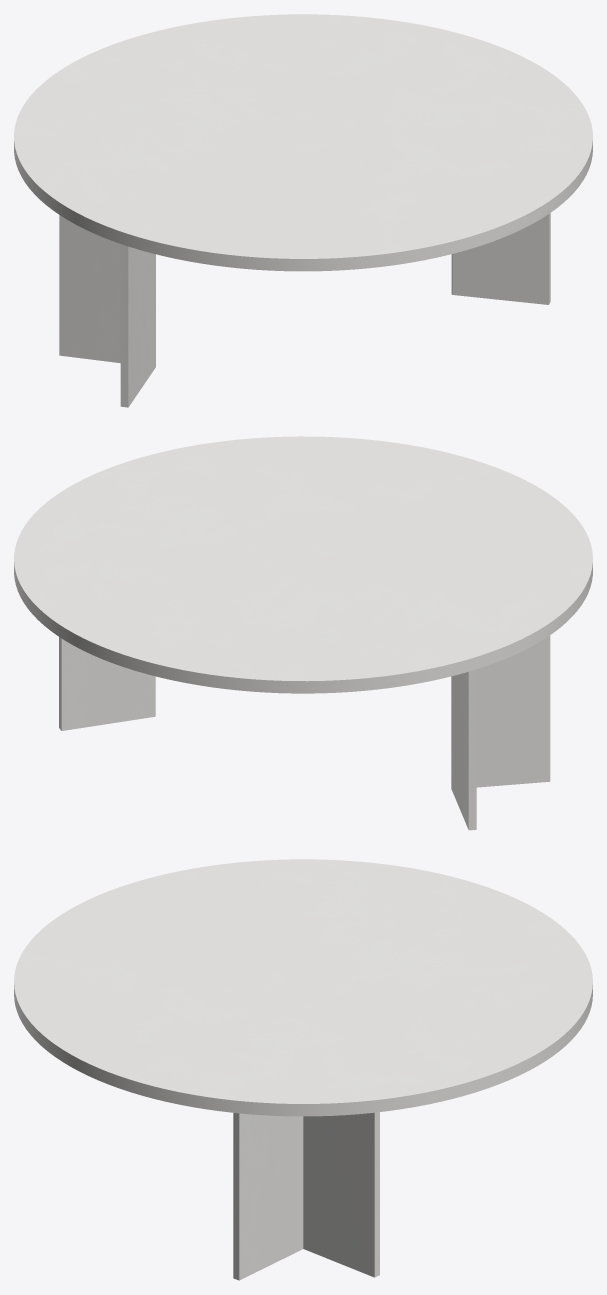
The model's file is purewhite_round_standard_valleyv.glb.
3 renders of one model, top to bottom at view 1: azimuth 30°, elevation 25°; view 2: azimuth 150°, elevation 25°; view 3: azimuth 270°, elevation 25°, orthographic.
Parts seen in each view (by area): view 1: standard_round, valleyv; view 2: standard_round, valleyv; view 3: standard_round, valleyv.
Part boxes in pixels (<box>): standard_round: <box>14,14,592,271</box>; valleyv: <box>59,213,550,407</box>; standard_round: <box>14,436,592,693</box>; valleyv: <box>59,635,550,830</box>; standard_round: <box>14,859,592,1116</box>; valleyv: <box>233,1112,379,1280</box>.
Bounding box in the file's own units: 6.75 × 2.5 × 6.75.
Materials: 1 (1 with a texture image).
